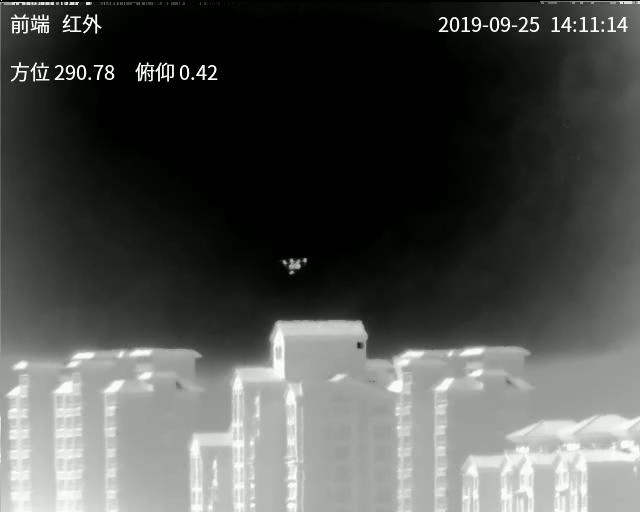uav: (280, 253, 308, 275)
